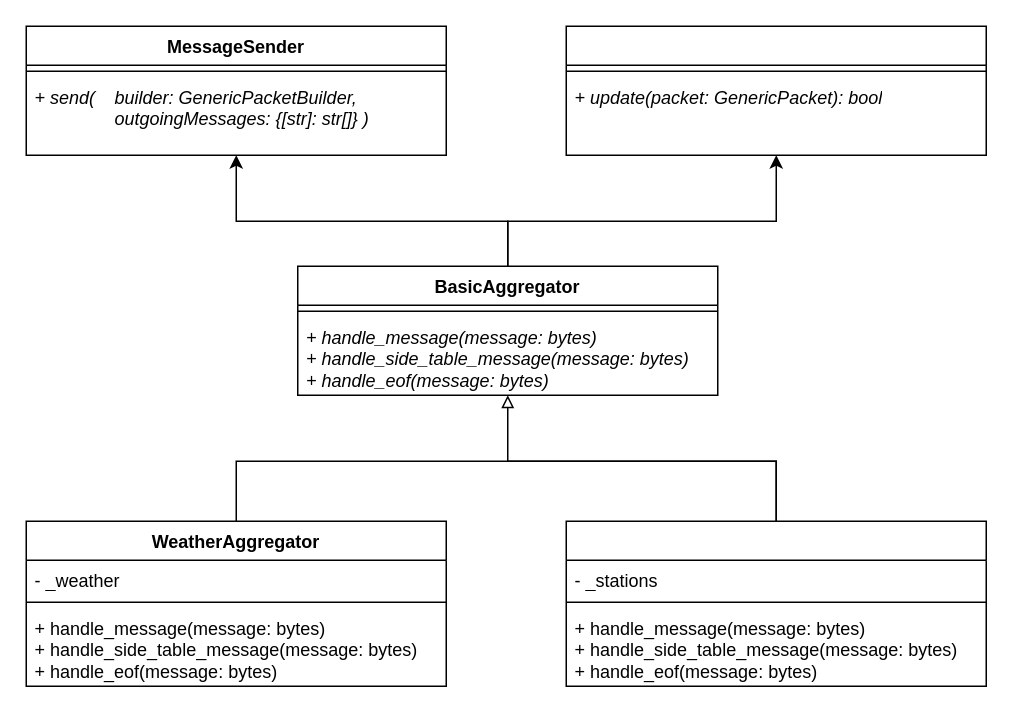
This 1013x717 diagram has some shape labels left out. The shapes that lost their labels are listed below. From the top down, each one's box as (x1, y1, x2, y2) in pixels, then its label:
(565, 25, 986, 155): MultiLastReceivedManager
(565, 520, 986, 686): StationAggregator
